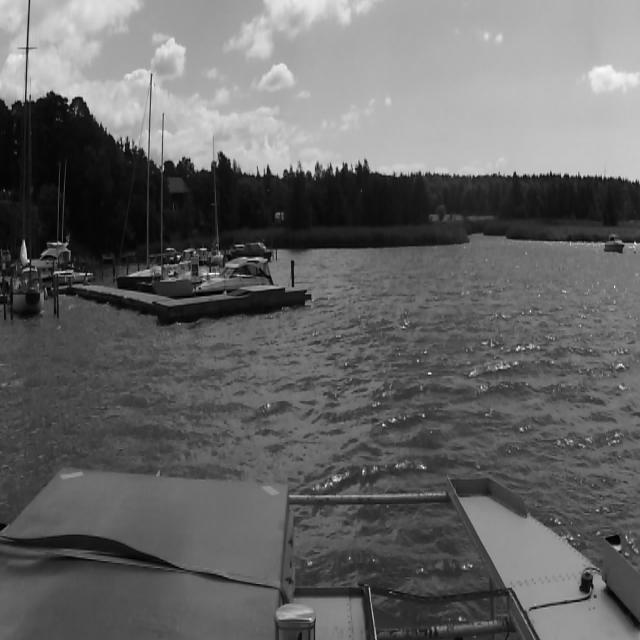ship: (108, 67, 172, 288), (150, 108, 213, 298), (16, 9, 46, 313), (51, 164, 95, 281), (193, 258, 275, 300), (205, 130, 227, 266), (30, 240, 68, 271), (604, 230, 624, 252)
